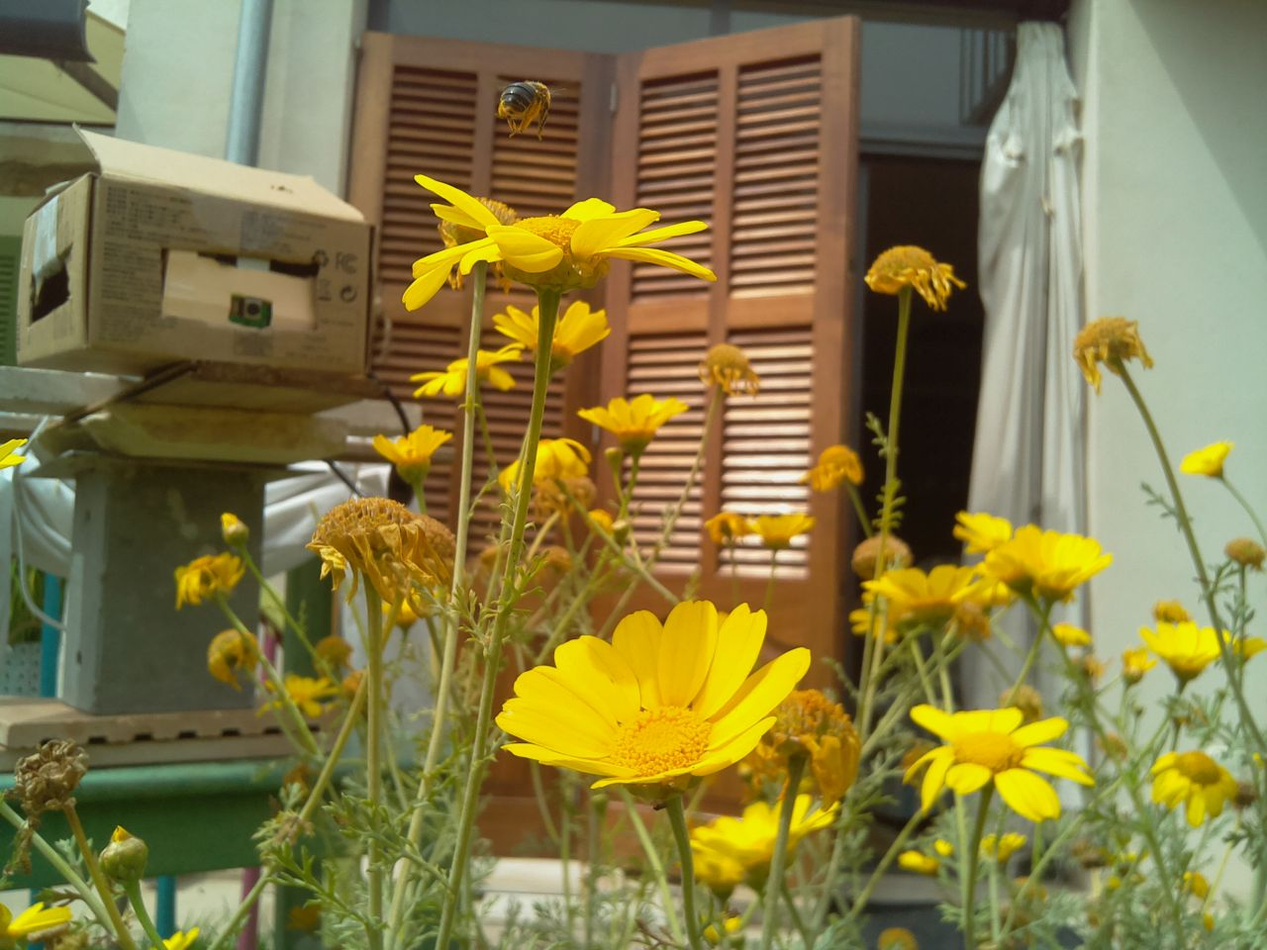Eucera: (475, 66, 572, 145)
